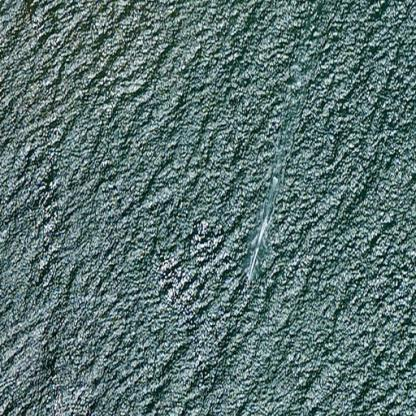ship: (246, 271, 253, 283)
